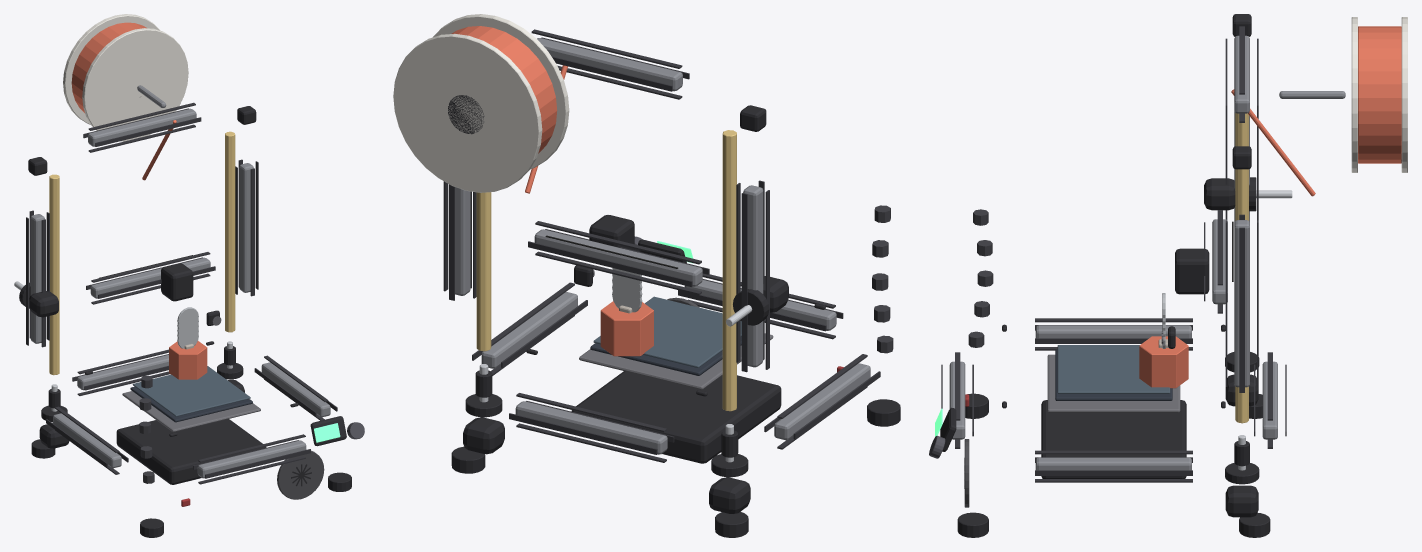
File: printer.glb
3 renders of one model, left to right at view 1: azimuth 30°, elevation 25°; view 2: azimuth 150°, elevation 25°; view 3: azimuth 270°, elevation 25°, orthographic. The views are drawn at different scales.
Visible parts, largest first — view 1: Cylinder.022, Cube.020, Cube.030, Cylinder.012, Cylinder.008, Cylinder, Cube.042, Cylinder.023, Cylinder.024, Cube.028, Cube.035, Cube (+21 smaller); view 2: Cylinder.023, Cube.020, Cube.030, Cylinder.008, Cylinder.022, Cylinder.024, Cube.054, Cylinder.012, Cube.035, Cylinder.021, Cube.005, Cube.049 (+37 smaller); view 3: Cube.020, Cylinder.024, Cube.030, Cylinder.021, Cube.015, Cube.028, Cube.010, Cube.042, Cube.061, Cylinder.012, Cylinder.022, Cylinder.023 (+17 smaller).
Boxes of the visible parts, x1,y1,x2,y2 form: Cylinder.022: [82, 28, 188, 141]; Cube.020: [116, 419, 266, 484]; Cube.030: [132, 366, 250, 416]; Cylinder.012: [225, 131, 235, 332]; Cylinder.008: [49, 174, 59, 375]; Cylinder: [277, 450, 324, 499]; Cube.042: [239, 163, 253, 292]; Cylinder.023: [63, 14, 160, 124]; Cylinder.024: [71, 22, 146, 112]; Cube.028: [122, 391, 260, 432]; Cube.035: [30, 214, 44, 343]; Cube: [197, 440, 306, 478]; Cylinder.023: [393, 33, 542, 192]; Cube.020: [571, 371, 781, 463]; Cube.030: [593, 296, 741, 367]; Cylinder.008: [722, 130, 736, 411]; Cylinder.022: [433, 14, 569, 169]; Cylinder.024: [451, 26, 557, 153]; Cube.054: [534, 229, 702, 286]; Cylinder.012: [476, 192, 491, 351]; Cube.035: [743, 185, 763, 367]; Cylinder.021: [600, 301, 653, 356]; Cube.005: [515, 401, 667, 454]; Cube.049: [537, 38, 682, 91]; Cube.020: [1041, 400, 1186, 478]; Cylinder.024: [1358, 26, 1401, 163]; Cube.030: [1057, 345, 1170, 393]; Cylinder.021: [1139, 336, 1188, 388]; Cube.015: [1035, 457, 1191, 470]; Cube.028: [1047, 354, 1180, 412]; Cube.010: [1035, 325, 1191, 338]; Cube.042: [1234, 220, 1249, 387]; Cube.061: [1175, 248, 1209, 294]; Cylinder.012: [1235, 169, 1248, 423]; Cylinder.022: [1351, 17, 1357, 172]; Cylinder.023: [1401, 17, 1407, 172].
Bounding box in the file's own units: 2.23 × 3.32 × 3.06.
